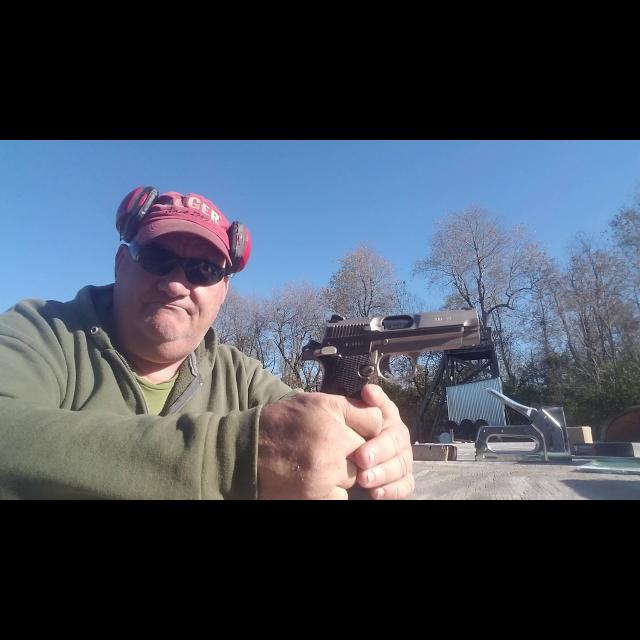handgun: (296, 303, 484, 402)
